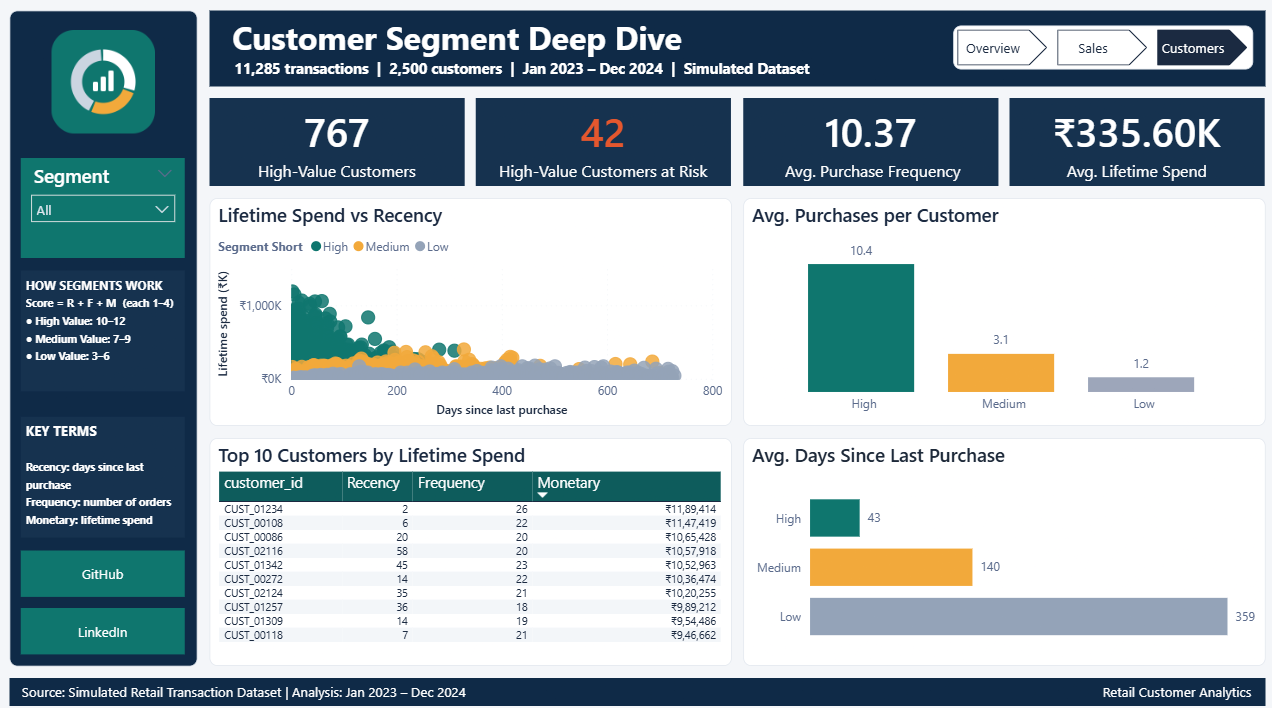

The dashboard page shown, as its layout file describes it:
{"tool":"powerbi","page":{"name":"Customers","canvas":[1280,720],"ordinal":2},"visuals":[{"type":"card","fields":{"Values":["RFM_Analysis.High Value Customers"]},"box":[212,100,255,88],"z":0},{"type":"card","fields":{"Values":["High_Value_Customers.At Risk HV"]},"box":[479,100,255,88],"z":1000},{"type":"card","fields":{"Values":["High_Value_Customers.Average of Frequency"]},"box":[746,100,255,88],"z":2000},{"type":"card","fields":{"Values":["High_Value_Customers.Average of Monetary"]},"box":[1013,100,255,88],"z":3000},{"type":"clusteredBarChart","title":"Avg. Days Since Last Purchase","fields":{"Category":["RFM_Analysis.Segment Short"],"Y":["Avg(RFM_Analysis.Recency)"]},"box":[746,440,522,228.2],"z":4000},{"type":"columnChart","title":"Avg. Purchases per Customer","fields":{"Category":["RFM_Analysis.Segment Short"],"Y":["Avg(RFM_Analysis.Frequency)"]},"box":[746,200.3,522,228.2],"z":5000},{"type":"textbox","box":[212,12,1056,76],"z":6000},{"type":"textbox","box":[12,12,188,656],"z":7000},{"type":"textbox","box":[12,680,1256,28],"z":8000},{"type":"pageNavigator","box":[956,28,300,44],"z":9000},{"type":"image","box":[46,24,120,120],"z":10000},{"type":"slicer","fields":{"Values":["RFM_Analysis.Segment"]},"box":[24,160,164,100],"z":11000},{"type":"textbox","box":[23.7,418.8,164.2,121],"z":12000},{"type":"actionButton","box":[24,552,164,46],"z":13000},{"type":"actionButton","box":[24,610,164.2,46],"z":14000},{"type":"tableEx","title":"Top 10 Customers by Lifetime Spend","fields":{"Values":["High_Value_Customers.customer_id","High_Value_Customers.Recency","High_Value_Customers.Frequency","RFM_Analysis.Monetary"]},"box":[212,440,522,228],"z":15000},{"type":"scatterChart","title":"Lifetime Spend vs Recency","fields":{"X":["RFM_Analysis.Recency"],"Y":["RFM_Analysis.Monetary"],"Series":["RFM_Analysis.Segment Short"]},"box":[212.3,200,522,228],"z":16000},{"type":"textbox","box":[23.7,272.7,164.2,121],"z":17000}]}

Visuals, with their boxes in screenshot pixels (x1, y1, x2, y2), scaled from the page's 1280x720 canvas onto the 1272x708 screenshot:
card - RFM_Analysis.High Value Customers: x1=211, y1=98, x2=464, y2=185
card - High_Value_Customers.At Risk HV: x1=476, y1=98, x2=729, y2=185
card - High_Value_Customers.Average of Frequency: x1=741, y1=98, x2=995, y2=185
card - High_Value_Customers.Average of Monetary: x1=1007, y1=98, x2=1260, y2=185
"Avg. Days Since Last Purchase" clusteredBarChart: x1=741, y1=433, x2=1260, y2=657
"Avg. Purchases per Customer" columnChart: x1=741, y1=197, x2=1260, y2=421
textbox: x1=211, y1=12, x2=1260, y2=87
textbox: x1=12, y1=12, x2=199, y2=657
textbox: x1=12, y1=669, x2=1260, y2=696
pageNavigator: x1=950, y1=28, x2=1248, y2=71
image: x1=46, y1=24, x2=165, y2=142
slicer - RFM_Analysis.Segment: x1=24, y1=157, x2=187, y2=256
textbox: x1=24, y1=412, x2=187, y2=531
actionButton: x1=24, y1=543, x2=187, y2=588
actionButton: x1=24, y1=600, x2=187, y2=645
"Top 10 Customers by Lifetime Spend" tableEx: x1=211, y1=433, x2=729, y2=657
"Lifetime Spend vs Recency" scatterChart: x1=211, y1=197, x2=730, y2=421
textbox: x1=24, y1=268, x2=187, y2=387
